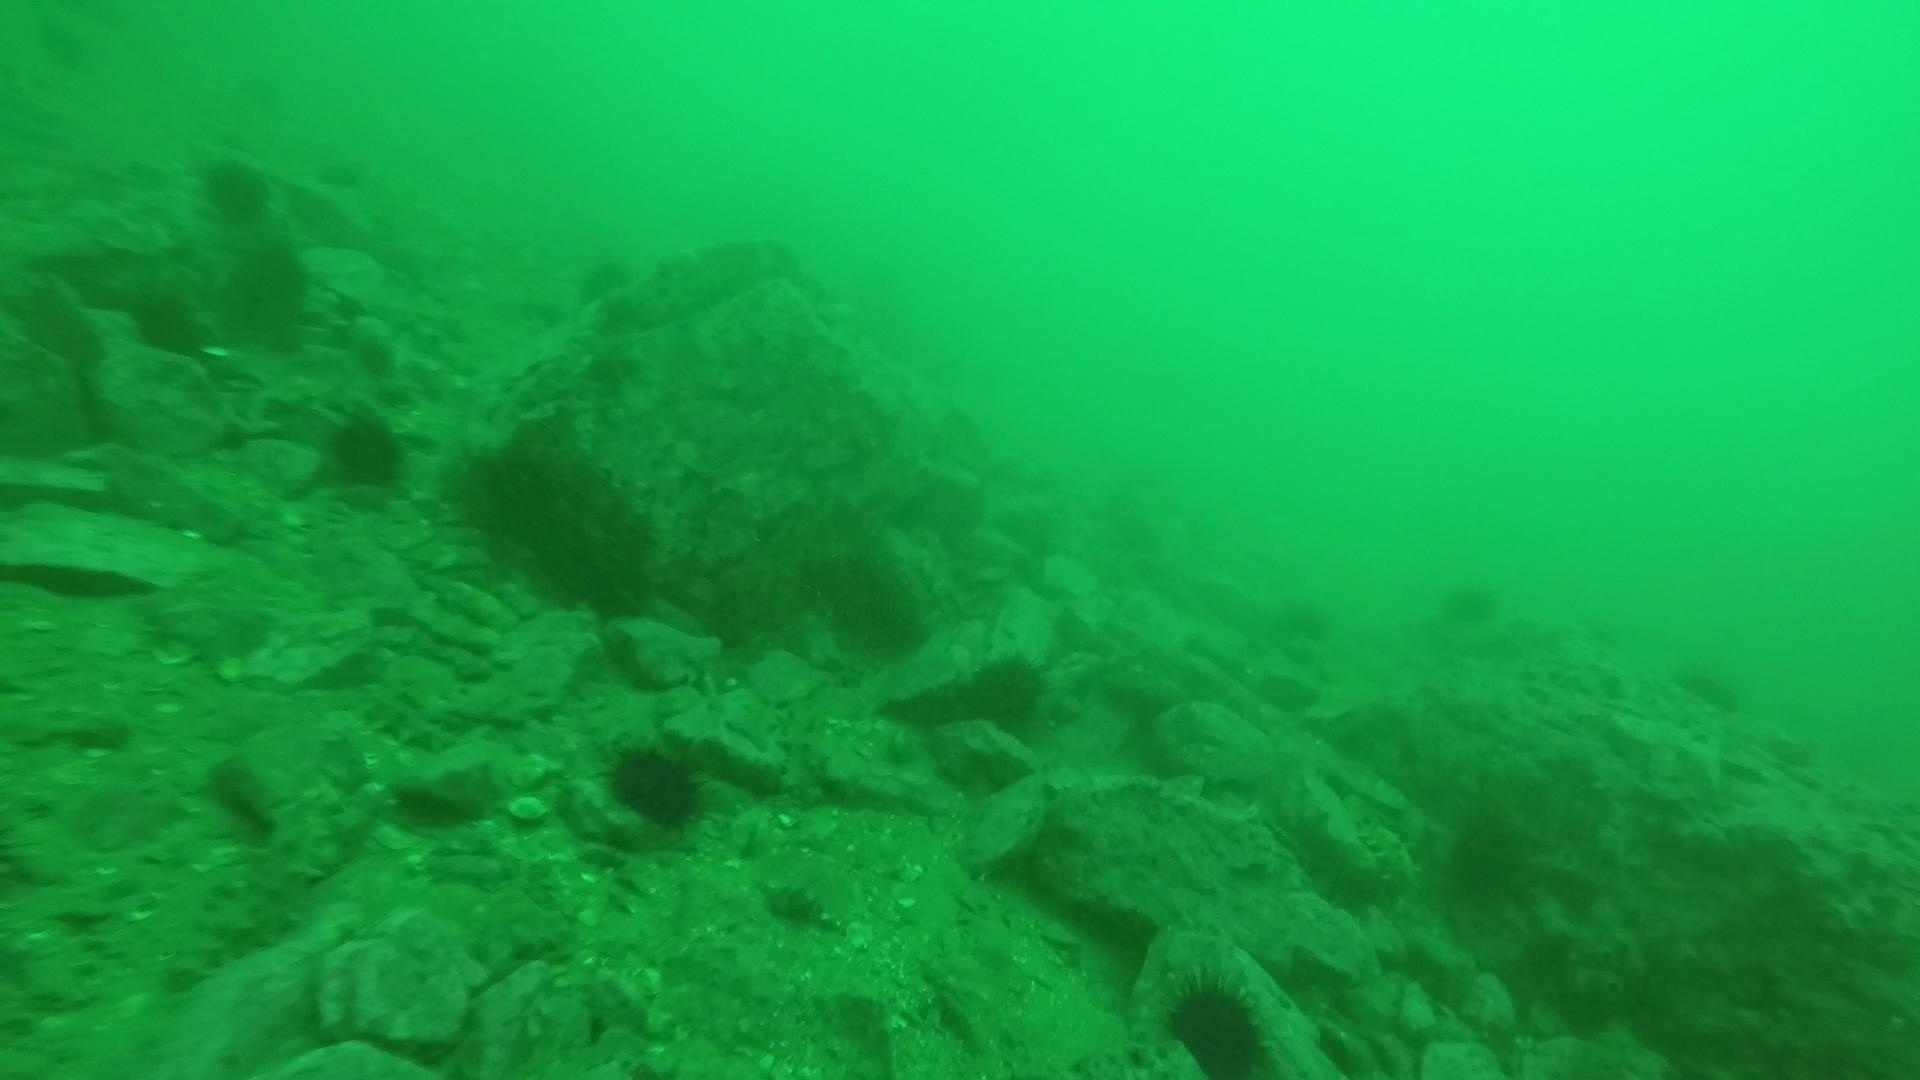echinus: (800, 543, 932, 661), (1155, 969, 1278, 1077), (597, 735, 713, 836), (1437, 804, 1538, 911), (222, 236, 316, 334), (313, 405, 413, 497), (961, 647, 1056, 731), (124, 285, 212, 363), (193, 150, 277, 229), (1266, 596, 1337, 654), (1677, 659, 1749, 717), (568, 247, 640, 305), (309, 146, 380, 204), (1433, 575, 1503, 632)
holothurian: (167, 794, 344, 988), (349, 667, 455, 749)
